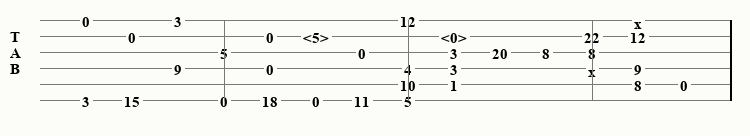0: (82, 13, 94, 27), (128, 29, 140, 43), (220, 93, 232, 107), (266, 61, 278, 75), (266, 29, 278, 43), (312, 93, 324, 107), (358, 45, 370, 59), (680, 77, 692, 91)
1: (450, 77, 462, 91)
10: (400, 77, 420, 91)
11: (354, 93, 374, 107)
12: (400, 13, 420, 27), (630, 29, 650, 43)
15: (124, 93, 144, 107)
18: (262, 93, 282, 107)
20: (492, 45, 512, 59)
22: (584, 29, 604, 43)
3: (82, 93, 94, 107), (174, 13, 186, 27), (450, 61, 462, 75), (450, 45, 462, 59)
4: (404, 61, 416, 75)
5: (220, 45, 232, 59), (404, 93, 416, 107)
8: (542, 45, 554, 59), (588, 45, 600, 59), (634, 77, 646, 91)
9: (174, 61, 186, 75), (634, 61, 646, 75)
harmonic: (303, 29, 333, 43), (441, 29, 471, 43)
x: (588, 63, 600, 74), (634, 15, 646, 26)
